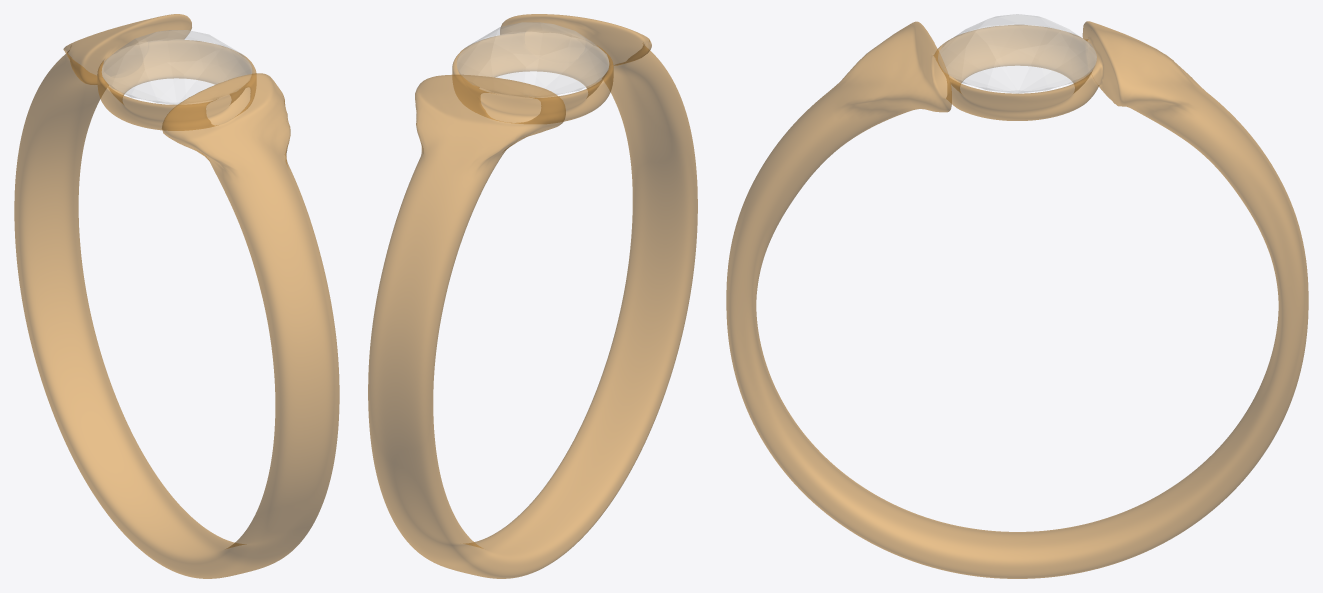
3 views of the same model, side by side, from view 1: azimuth 30°, elevation 25°; view 2: azimuth 150°, elevation 25°; view 3: azimuth 270°, elevation 25° (orthographic). The views are drawn at different scales.
Visible parts, largest first — view 1: VR202; view 2: VR202; view 3: VR202.
Boxes of the visible parts, bbox=[...] form: VR202: bbox=[14, 14, 339, 578]; VR202: bbox=[368, 14, 697, 578]; VR202: bbox=[726, 14, 1308, 578].
Bounding box in the file's own units: 0.6454 × 2.28 × 2.24.
